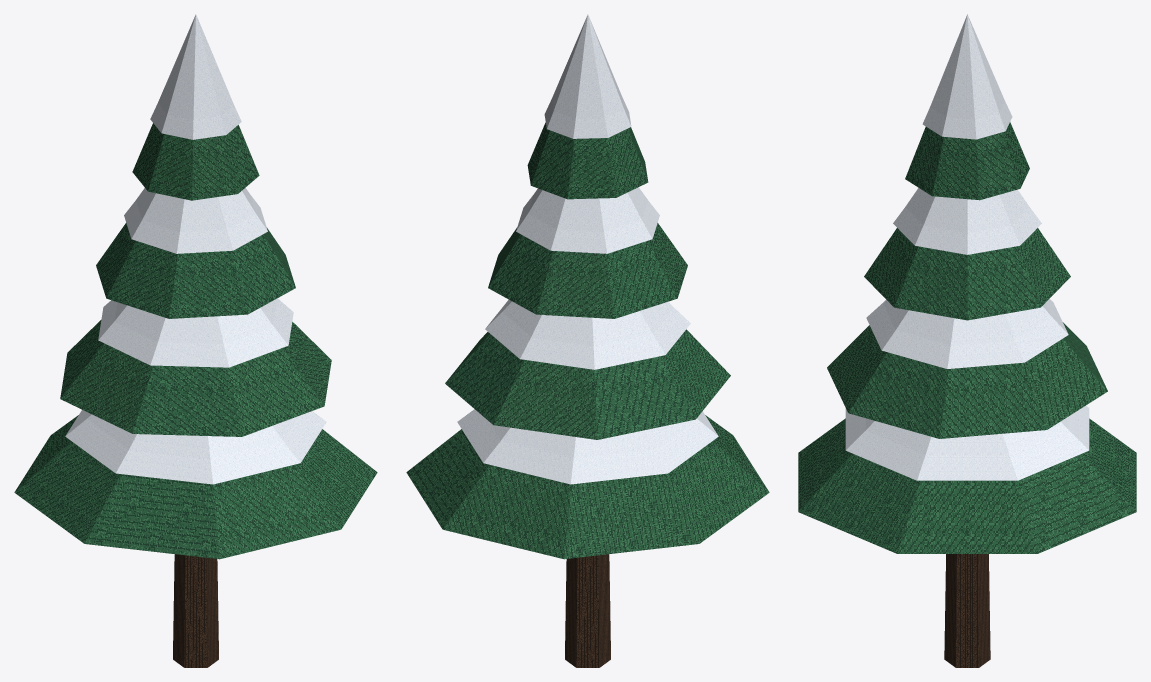
File: tree_pine_snow.glb
The picture shows the model from 3 angles, left to right: view 1: azimuth 30°, elevation 25°; view 2: azimuth 150°, elevation 25°; view 3: azimuth 270°, elevation 25°; orthographic projection.
Parts seen in each view (by area): view 1: Body.006; view 2: Body.006; view 3: Body.006.
Part boxes in pixels (x1=…): Body.006: x1=14, y1=14, x2=377, y2=667; Body.006: x1=406, y1=14, x2=769, y2=667; Body.006: x1=798, y1=14, x2=1136, y2=667.
Size of the model in its own units: 3.51 by 7.38 by 3.51.
Materials: 3 (3 with a texture image).
